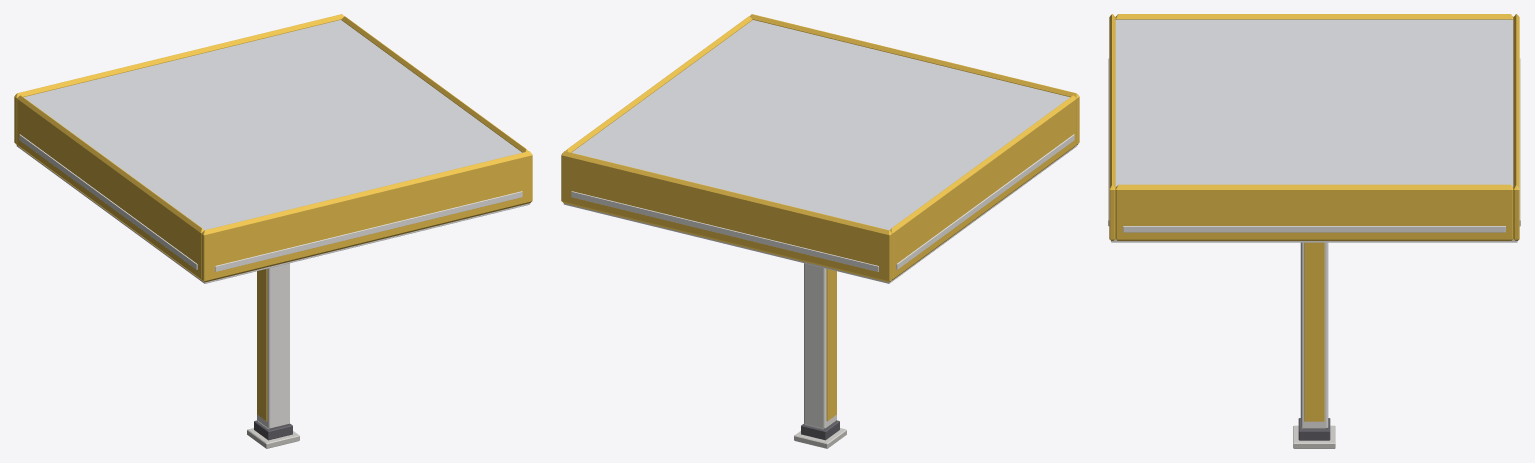
File: petrol-station-and-forecourt-shop-forecourt-canopy-sec-ca00675b__33956.glb
3 renders of one model, left to right at view 1: azimuth 30°, elevation 25°; view 2: azimuth 150°, elevation 25°; view 3: azimuth 270°, elevation 25°, orthographic. The views are drawn at different scales.
Parts seen in each view (by area): view 1: forecourt-canopy-section-amber; view 2: forecourt-canopy-section-amber; view 3: forecourt-canopy-section-amber.
Boxes of the visible parts, x1,y1,x2,y2 form: forecourt-canopy-section-amber: [14, 14, 532, 448]; forecourt-canopy-section-amber: [561, 14, 1079, 448]; forecourt-canopy-section-amber: [1108, 14, 1520, 448].
Size of the model in its own units: 6.04 by 5.5 by 6.04.
